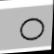no answer: (19, 15, 46, 43)
